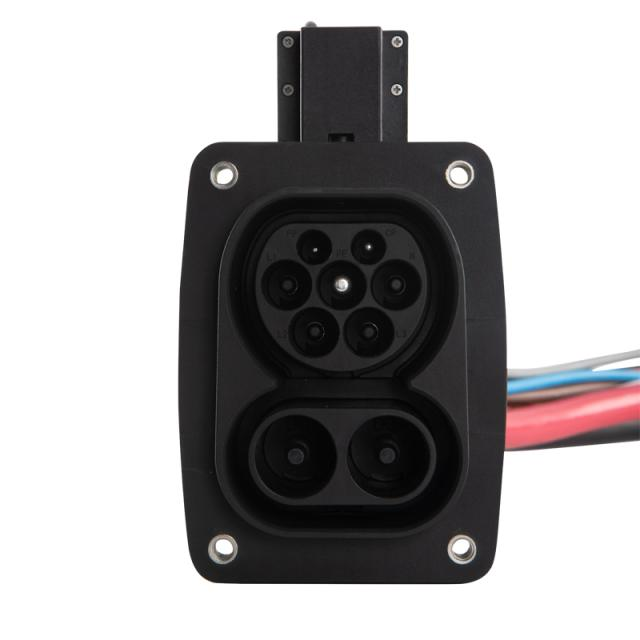inlet: (256, 224, 429, 373)
inlet-above-left: (296, 229, 333, 265)
inlet-above-right: (350, 230, 386, 265)
inlet-below-left: (289, 306, 337, 358)
inlet-below-right: (345, 307, 397, 357)
inlet-circle: (317, 259, 366, 312)
inlet-circle-left: (262, 261, 312, 311)
inlet-circle-right: (371, 259, 421, 310)
inlet-minus: (346, 415, 431, 499)
inlet-plus: (254, 414, 338, 500)
